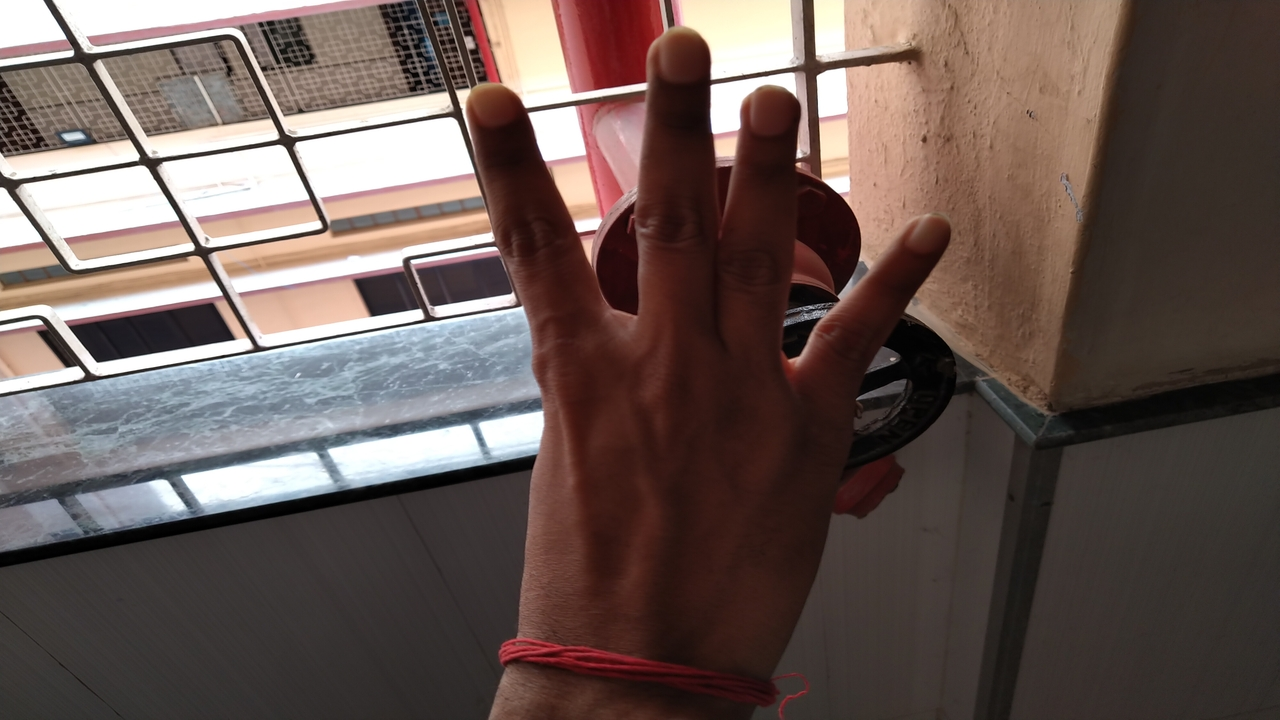fingertip: (458, 76, 528, 142), (740, 80, 804, 140), (652, 22, 710, 86), (898, 212, 958, 262)
